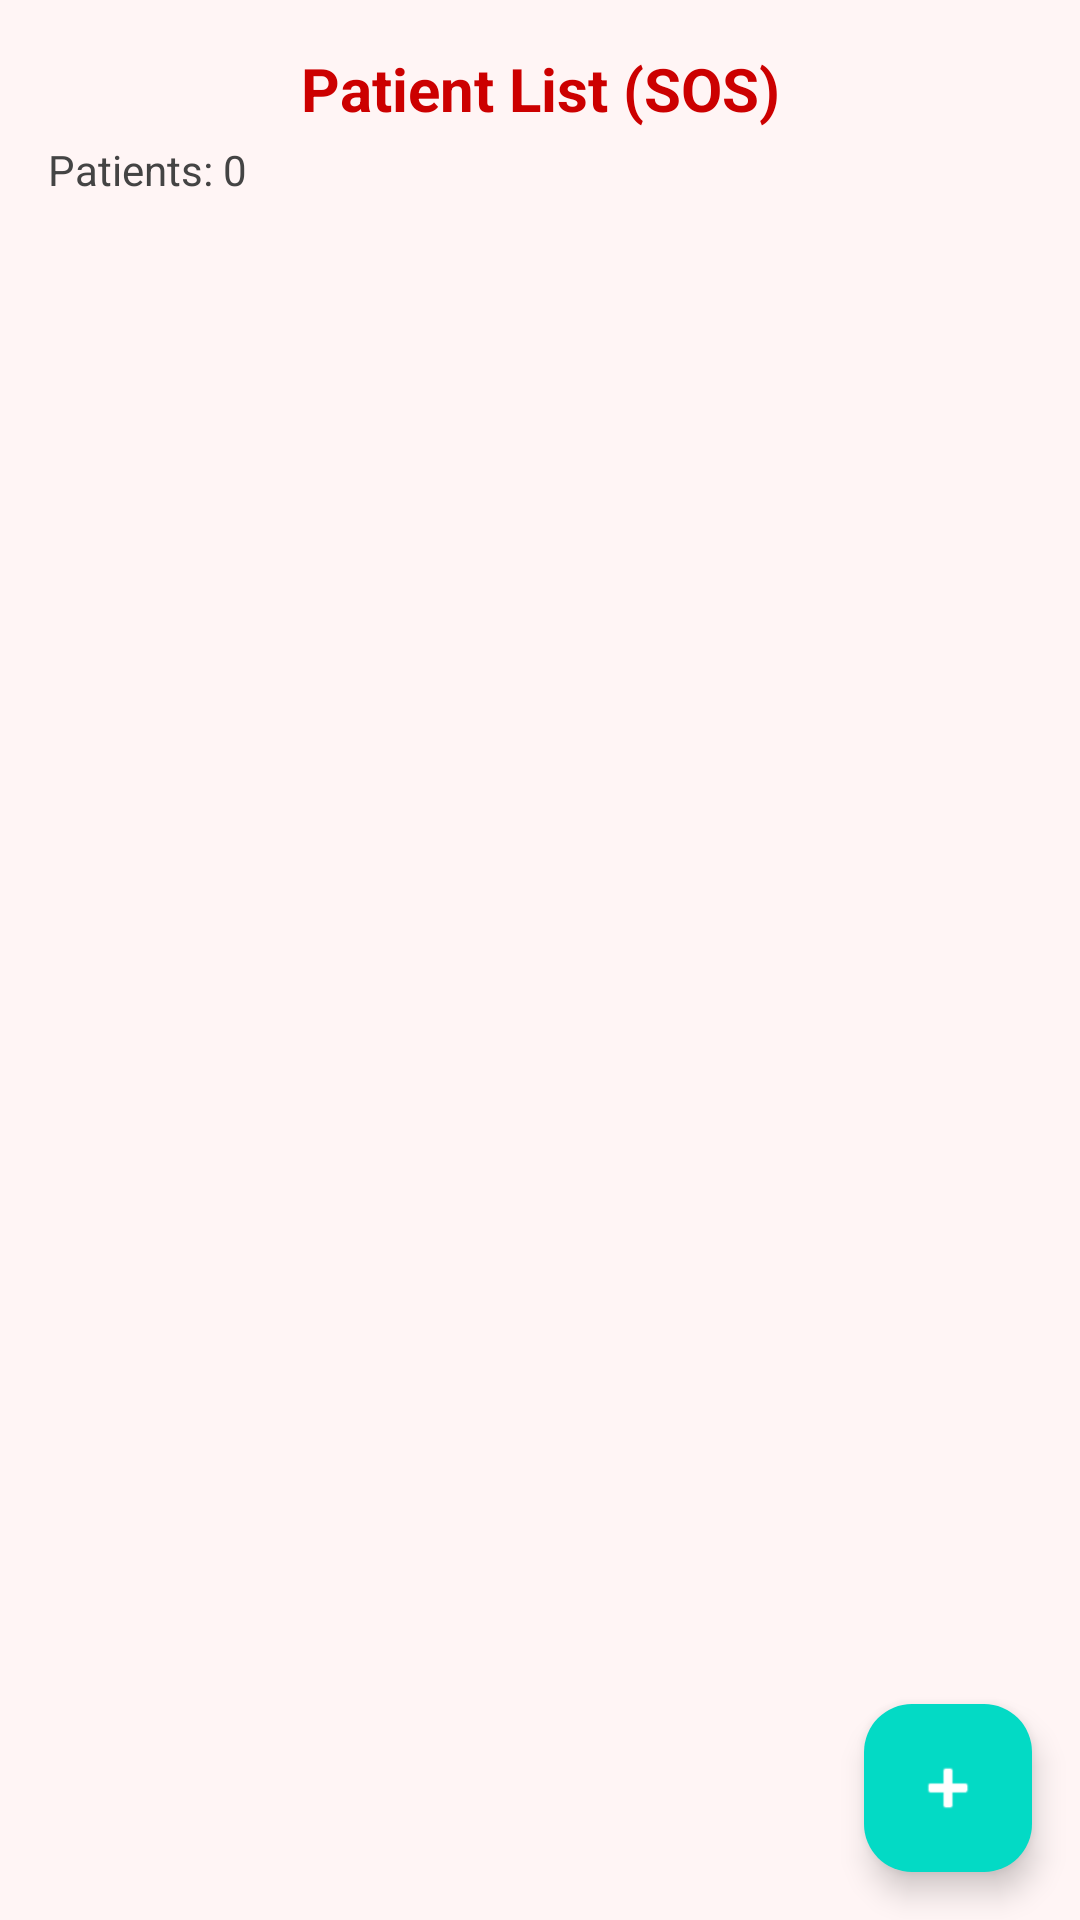

Point at icon controls on the screen. Image size 1080 x 1920, points as (x=x, y=y).
Add patient: (x=948, y=1788)
